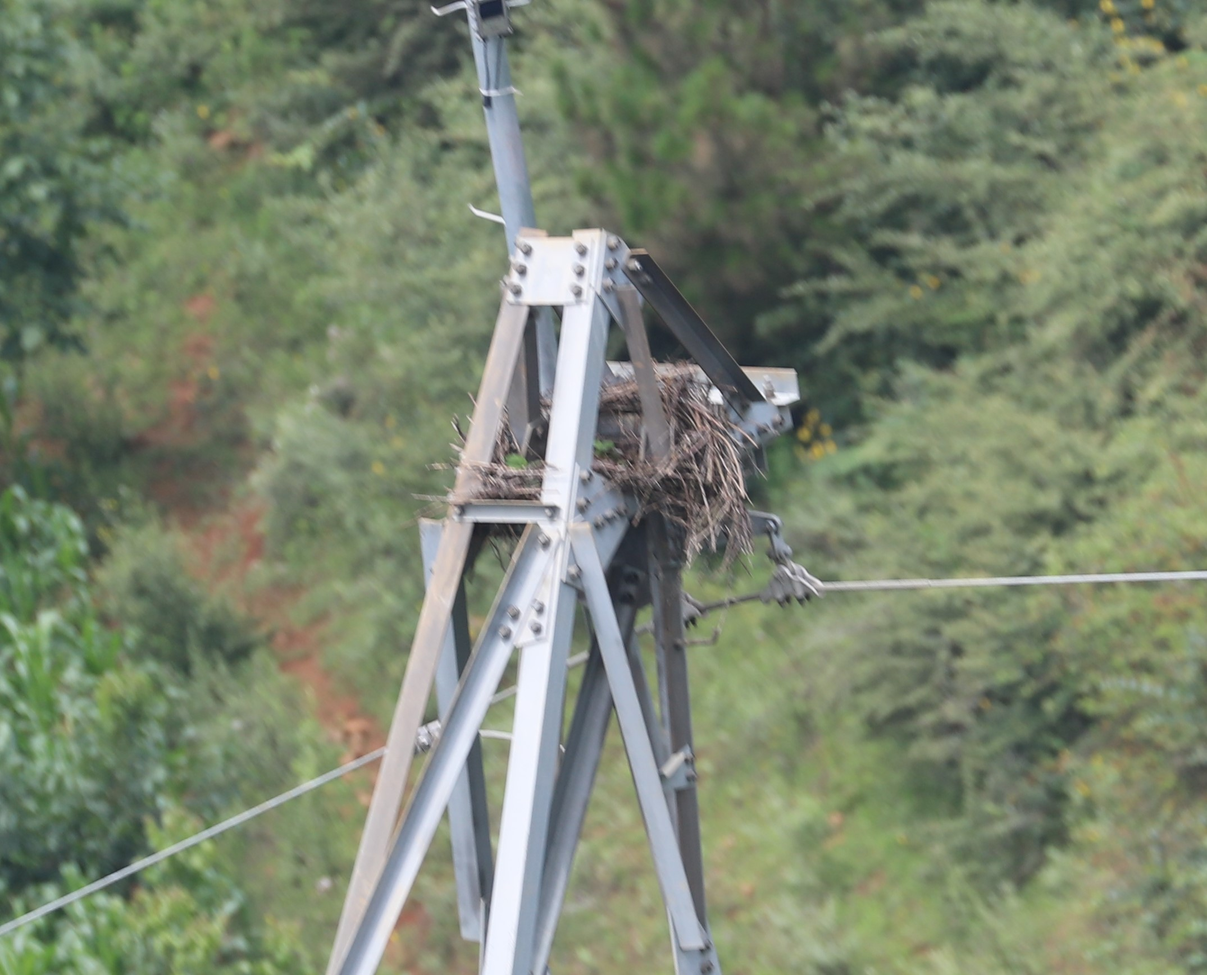nest: (541, 379, 754, 559)
